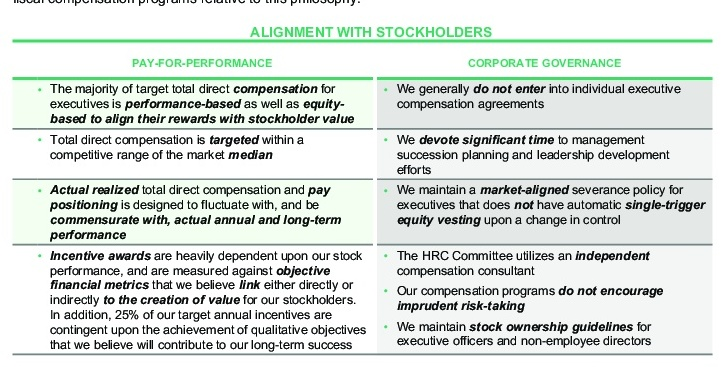table: (0, 0, 726, 367)
